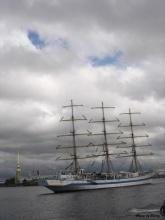fanchuan: (43, 95, 153, 193)
